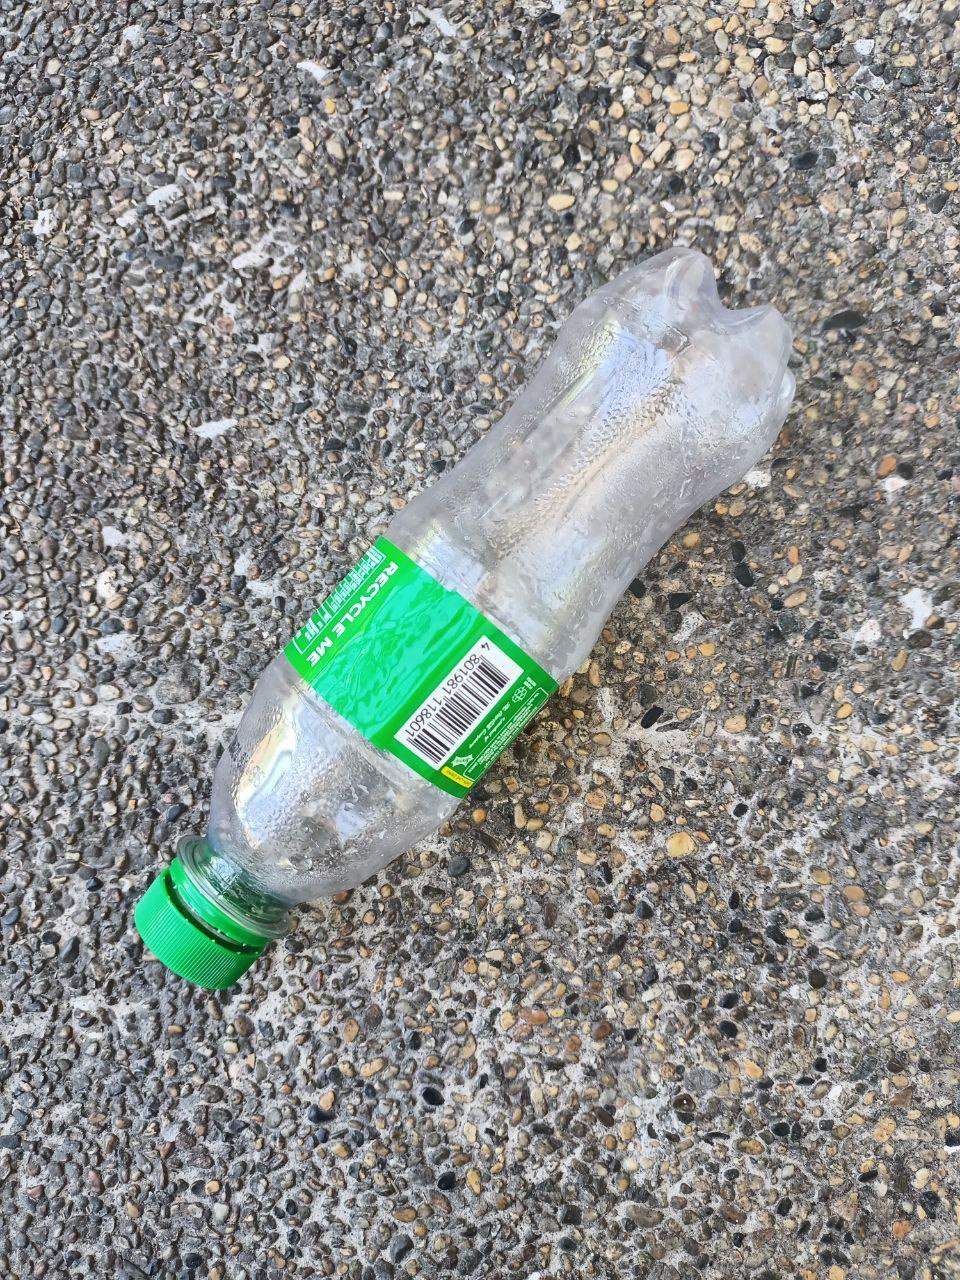plastic: (88, 227, 823, 1025)
